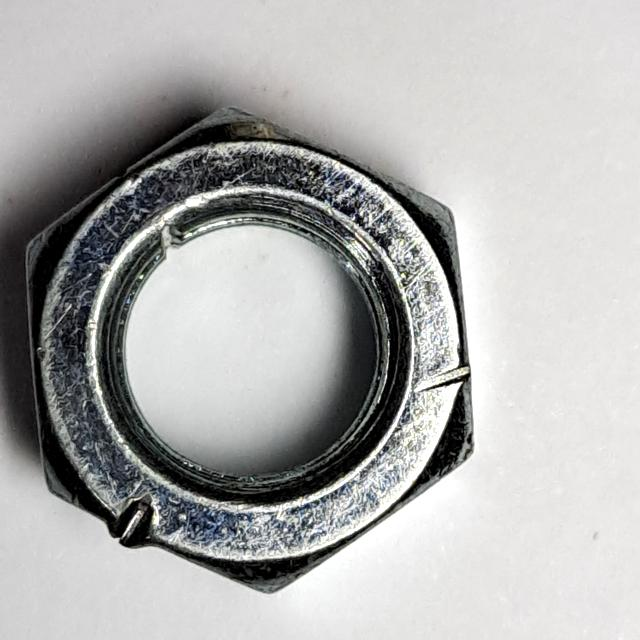Scratches: (17, 95, 490, 609)
